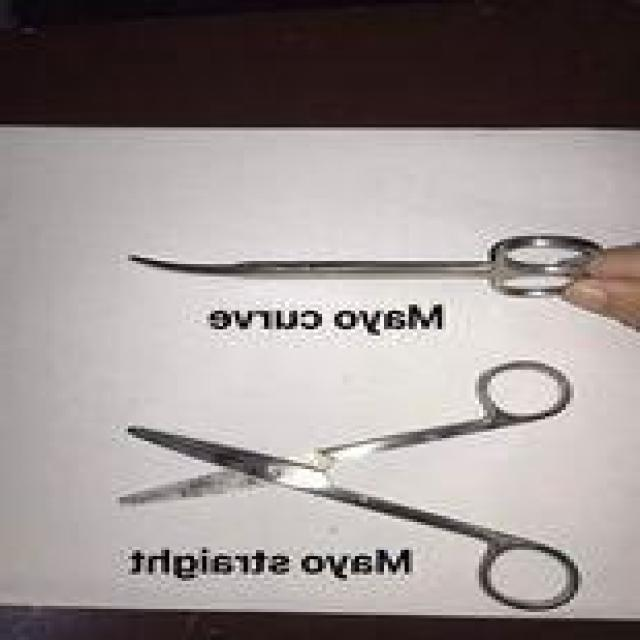Mayo_metz: (112, 354, 582, 615), (120, 226, 603, 302)
